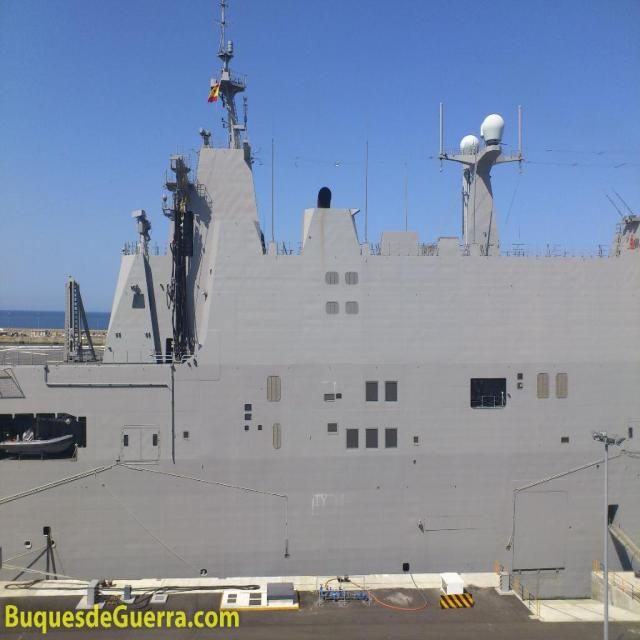Boat: (28, 35, 622, 616)
